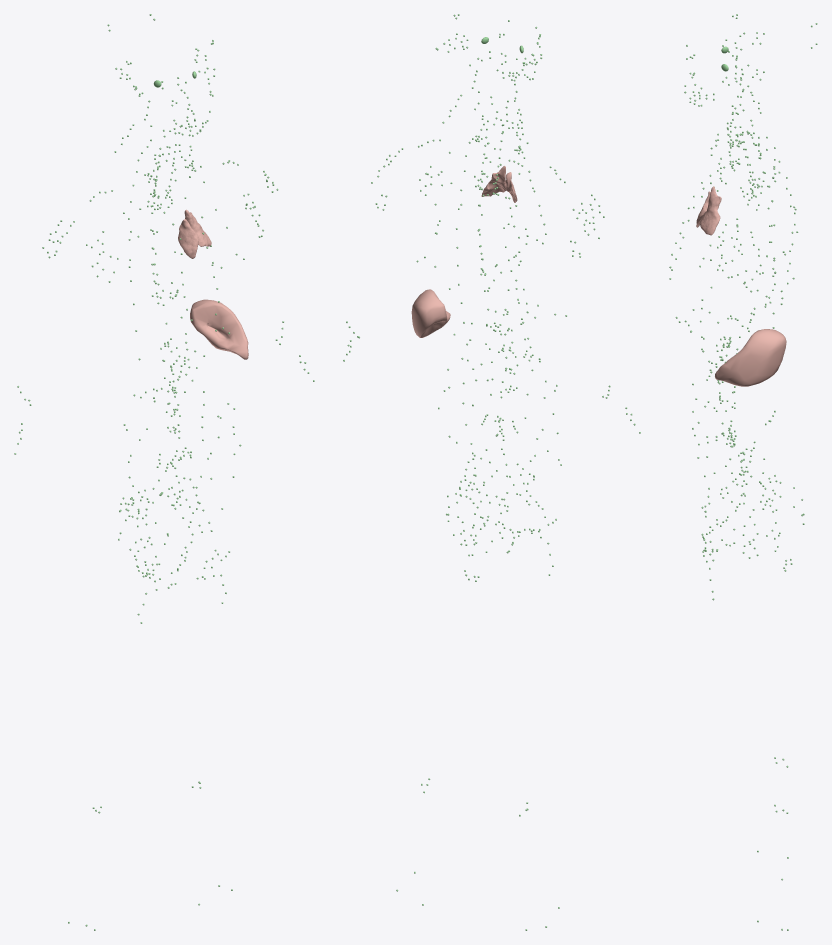
Rendered from Lymphoid_organs.glb.
The picture shows the model from 3 angles, left to right: view 1: azimuth 30°, elevation 25°; view 2: azimuth 150°, elevation 25°; view 3: azimuth 270°, elevation 25°; orthographic projection.
Parts seen in each view (by area): view 1: Spleen; view 2: Spleen; view 3: Spleen, Left lobe of thymus.
Boxes of the visible parts, box(x1,y1,x2,y2) form: Spleen: box(190, 299, 248, 359); Spleen: box(411, 289, 450, 337); Spleen: box(715, 329, 786, 386); Left lobe of thymus: box(699, 186, 721, 235).
Size of the model in its own units: 0.4523 by 1.28 by 0.1963.
